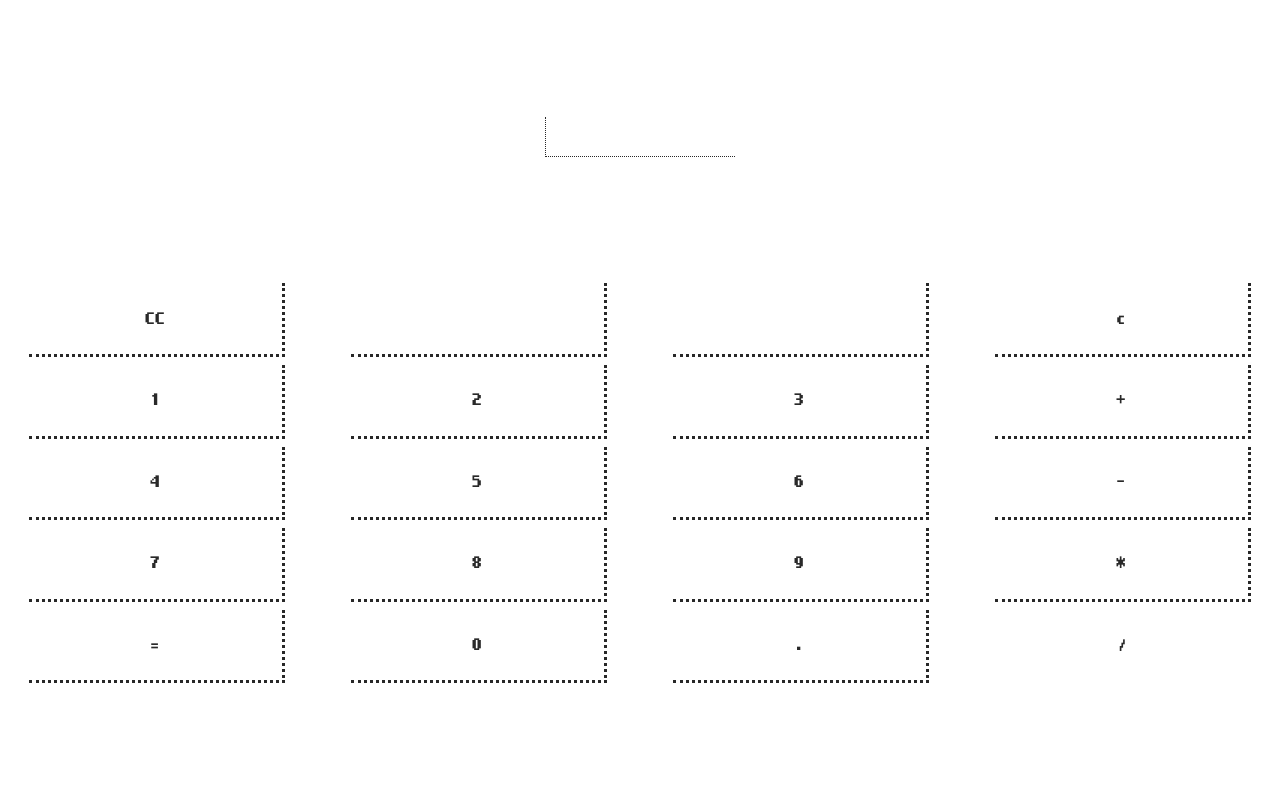
Test: Calculator › removes the last character when c is clicked
What coordinates should you click on to do the following:
click the button "1"
I would click on:
 (157, 402)
Its box is [29,365,285,438].
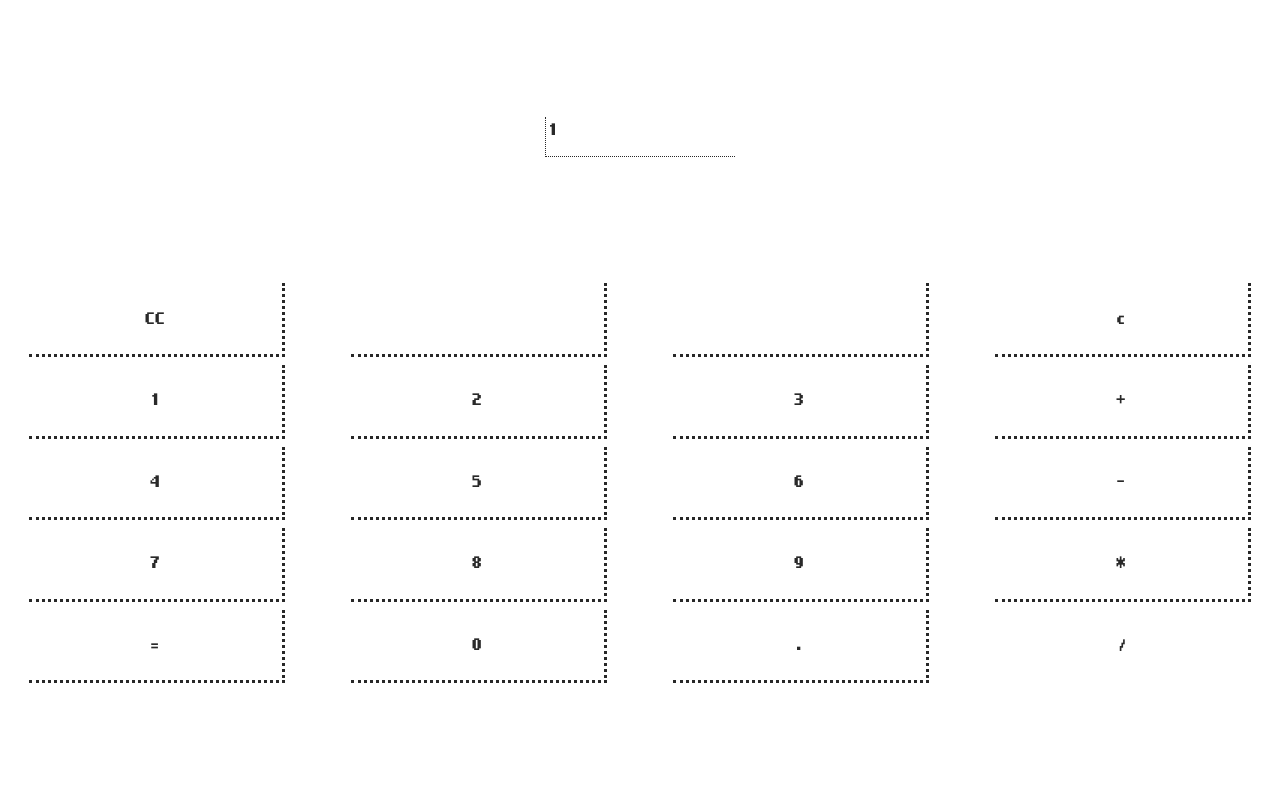
What coordinates should you click on to do the following:
click the button "2"
I would click on:
 (479, 402)
Its box is [351,365,607,438].
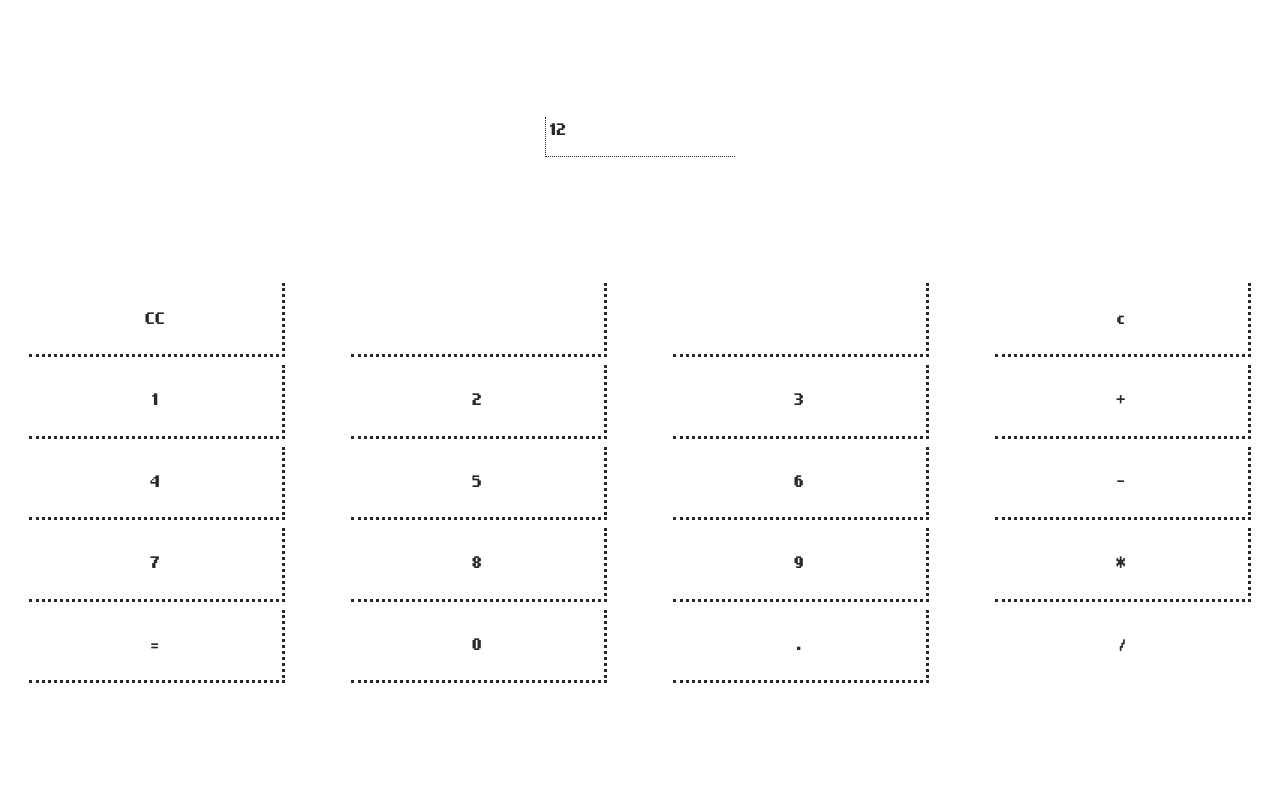
What coordinates should you click on to do the following:
click the button "c"
I would click on:
 (1123, 320)
Its box is [995,283,1251,357].
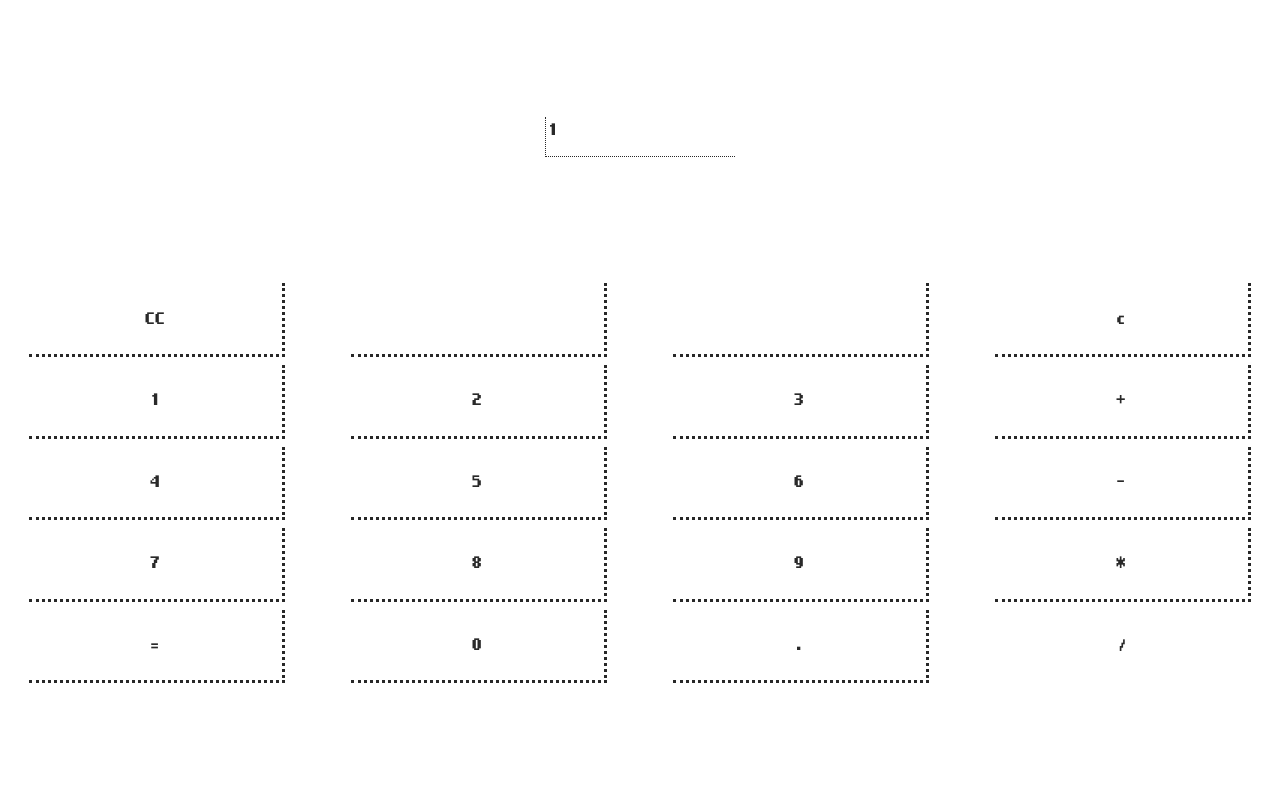
Expected: the text box holds "1", [545,117,735,157]
